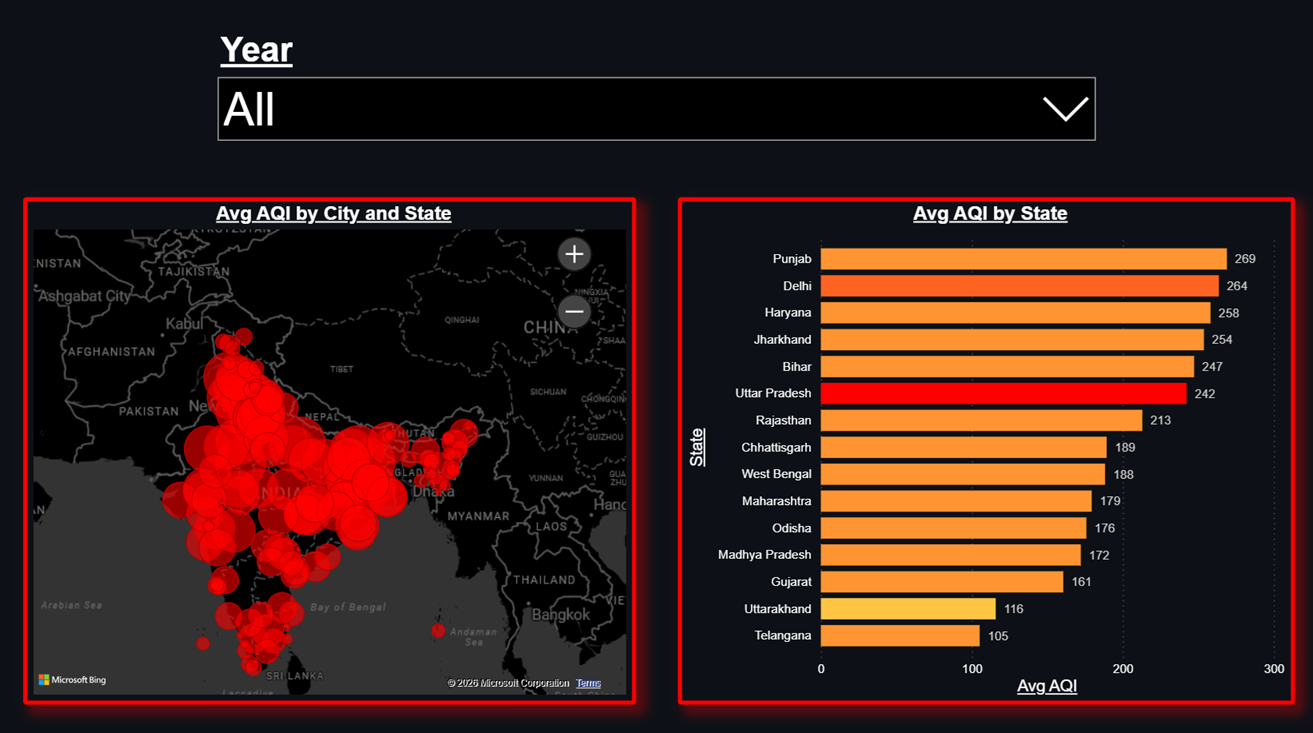

The page's visual inventory and layout, read from the dashboard file:
{"tool":"powerbi","page":{"name":"Geographic Map","canvas":[1280,720],"ordinal":4},"visuals":[{"type":"map","fields":{"Category":["Dim_City.City","Dim_City.State","Dim_City.Country"],"Size":["Fact_AQI.Avg AQI"]},"box":[23.8,193.8,596.2,493.8],"z":1000},{"type":"barChart","fields":{"Category":["Dim_City.State"],"Y":["Fact_AQI.Avg AQI"]},"box":[660,193.8,600,493.8],"z":1001},{"type":"slicer","fields":{"Values":["Dim_Date.Year"]},"box":[202.5,26.2,873.8,132.5],"z":1002}]}

Visuals, with their boxes in screenshot pixels (x1, y1, x2, y2), scaled from the page's 1280x720 canvas onto the 1313x733 screenshot:
map - Dim_City.City x Dim_City.State: crop(24, 197, 636, 700)
barChart - Dim_City.State x Fact_AQI.Avg AQI: crop(677, 197, 1292, 700)
slicer - Dim_Date.Year: crop(208, 27, 1104, 162)
